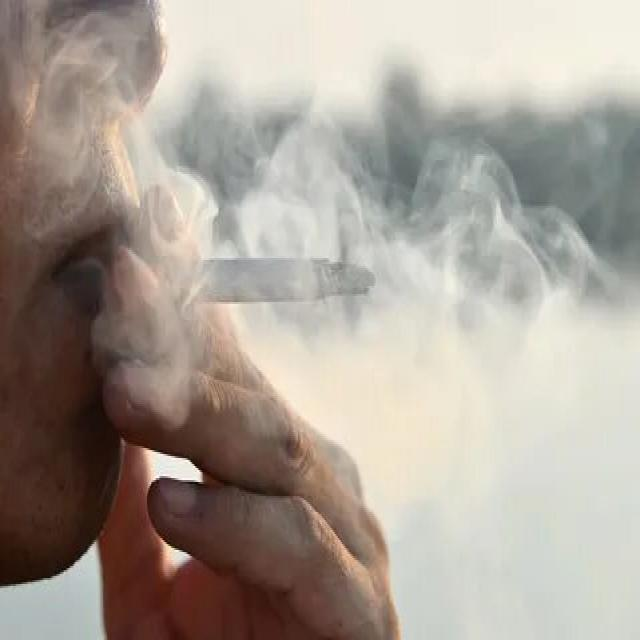smoke: (163, 244, 383, 324)
